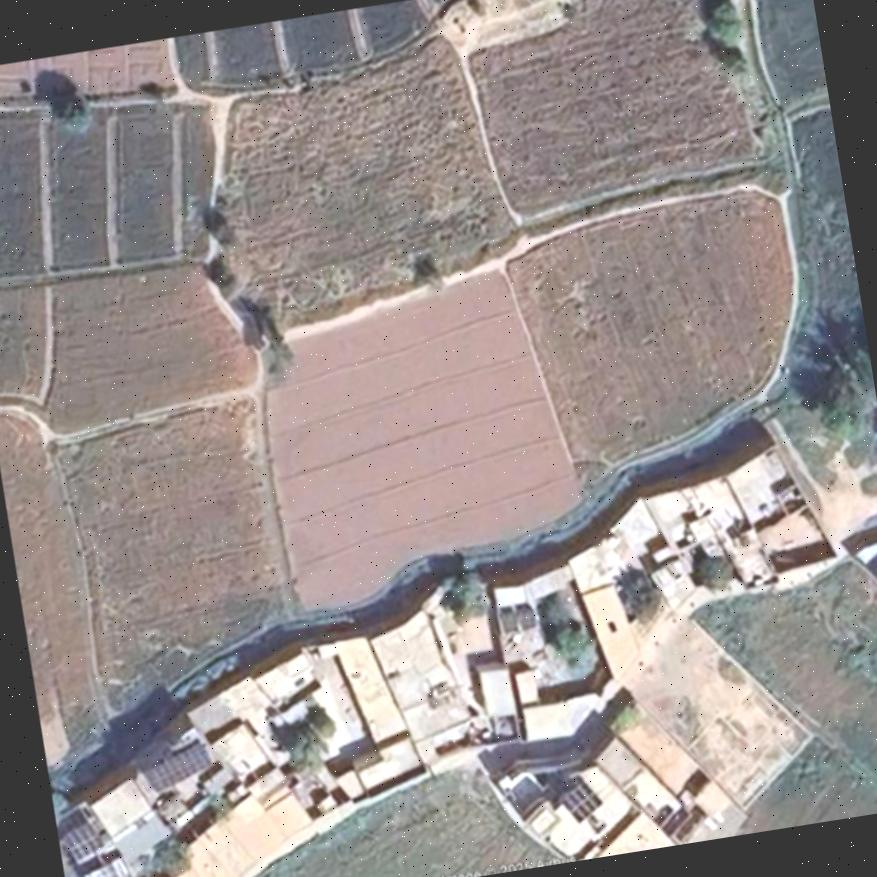Solarpanel: (143, 742, 209, 791), (562, 782, 602, 823), (62, 819, 103, 858)
